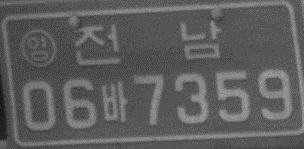0: (21, 80, 56, 133)
3: (174, 72, 209, 125)
5: (214, 70, 251, 123)
6: (62, 78, 97, 130)
7: (132, 74, 165, 125)
9: (257, 68, 293, 123)
바: (101, 82, 129, 122)
영: (20, 28, 57, 69)
전남_D: (73, 21, 221, 66)
